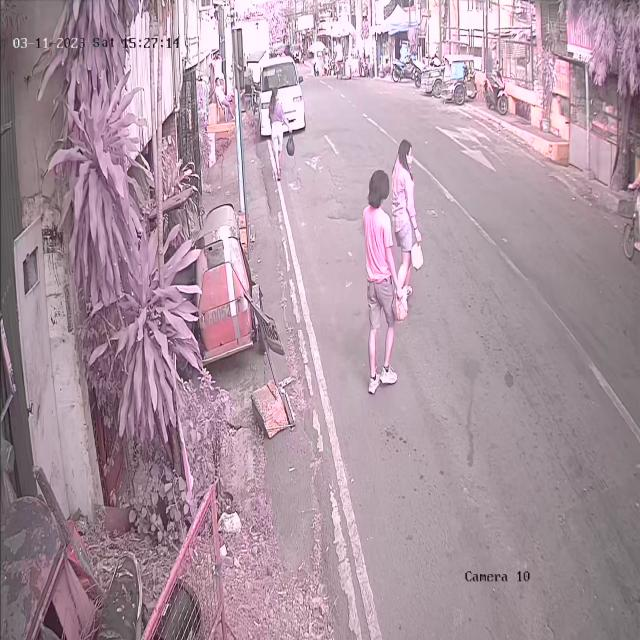garbage_dumping: (388, 284, 411, 324), (412, 240, 423, 274), (285, 130, 296, 158)
